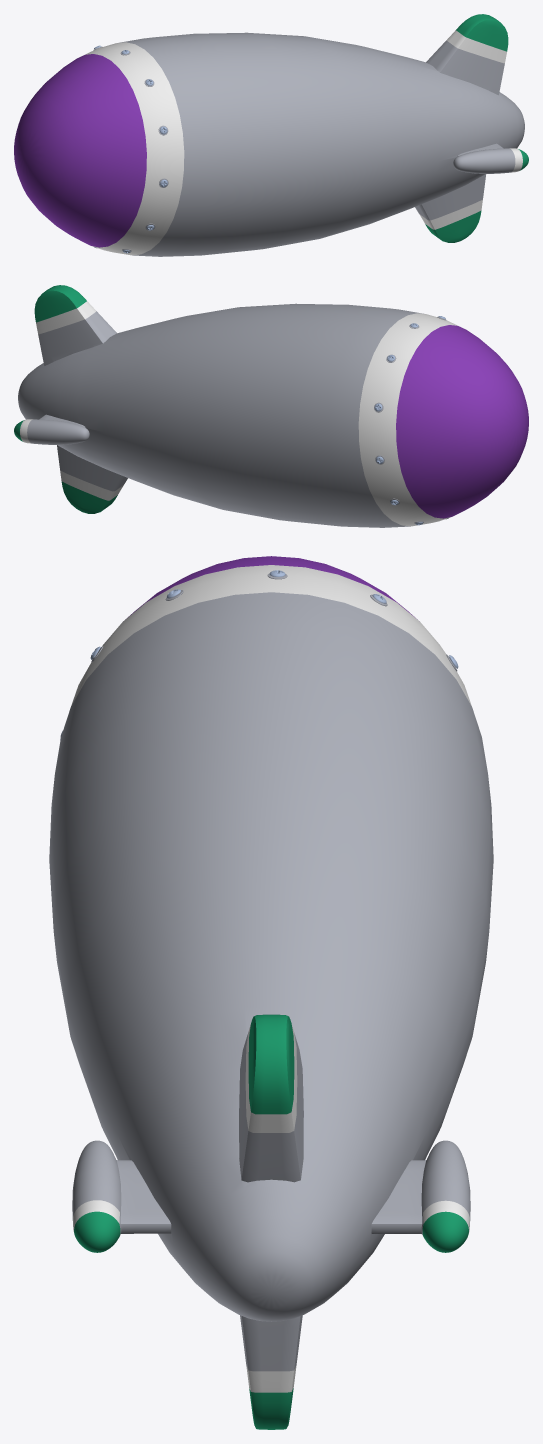
The model's file is Rocket_R0402.fbx.
3 renders of one model, top to bottom at view 1: azimuth 30°, elevation 25°; view 2: azimuth 150°, elevation 25°; view 3: azimuth 270°, elevation 25°, orthographic. The views are drawn at different scales.
Visible parts, largest first — view 1: Cylinder; view 2: Cylinder; view 3: Cylinder.
Part boxes in pixels (x1,y1,x2,y2): Cylinder: (14, 14, 528, 256); Cylinder: (14, 285, 528, 527); Cylinder: (49, 556, 493, 1429).
Size of the model in its own units: 595 by 307 by 231.
